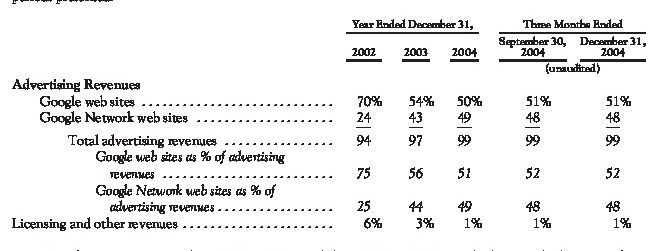table: (0, 0, 655, 251)
